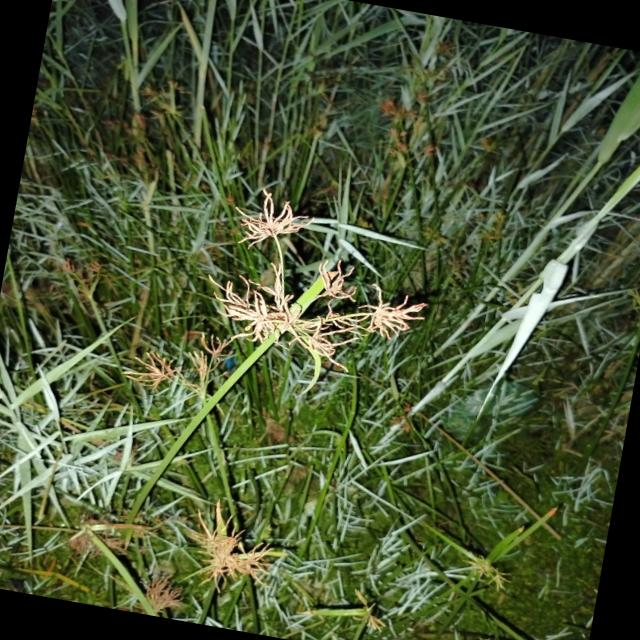cyperus: (199, 182, 427, 372), (372, 29, 469, 180), (114, 316, 239, 422), (173, 492, 287, 604), (97, 70, 190, 185), (130, 560, 186, 620)
